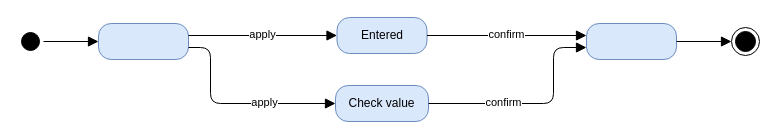
Image size: 777x139. Some labels were removed from this diagram. The box of each missing label's shape, as (x1, y1, x2, y2) in pixels:
Confirmed: (586, 22, 676, 60)
Missing: (98, 22, 188, 60)
